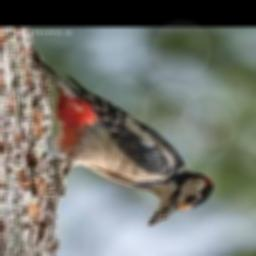Woodpecker: (30, 48, 213, 226)
